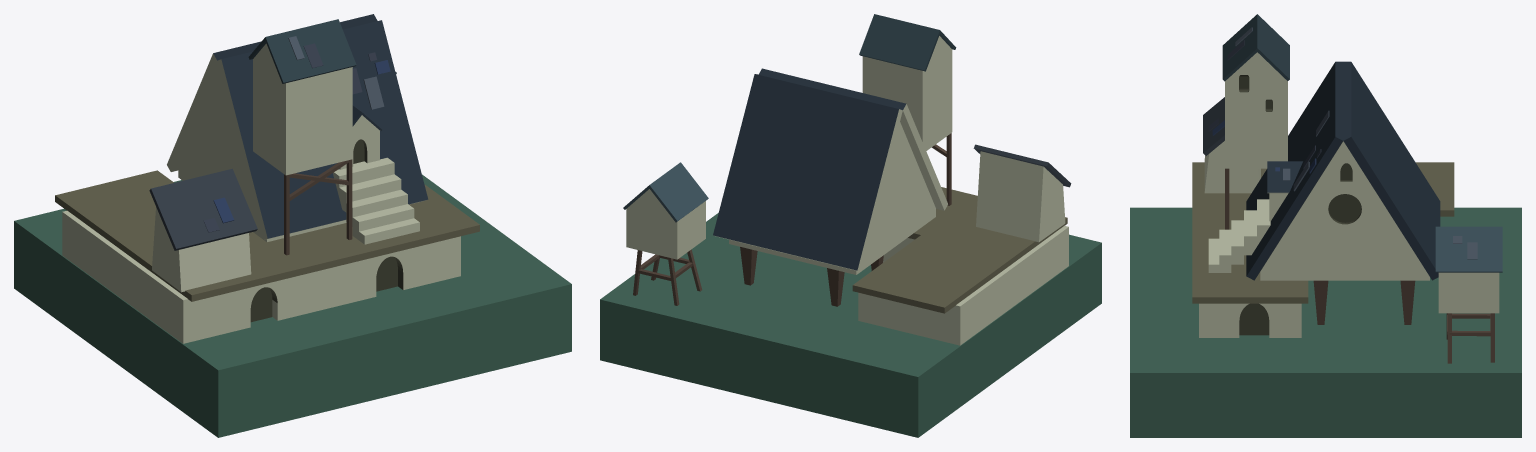
The model's file is 城镇导出blend.fbx.
3 views of the same model, side by side, from view 1: azimuth 30°, elevation 25°; view 2: azimuth 150°, elevation 25°; view 3: azimuth 270°, elevation 25° (orthographic). The views are drawn at different scales.
Visible parts, largest first — view 1: 底座, 立方体, 立方体.001, 立方体.007, 立方体.002, 立方体.005, 立方体.006, 立方体.015, 立方体.019; view 2: 底座, 立方体, 立方体.007, 立方体.002, 立方体.001, 立方体.005, 立方体.003, 立方体.022, 立方体.023; view 3: 底座, 立方体, 立方体.002, 立方体.007, 立方体.003, 立方体.001, 立方体.006, 立方体.005, 立方体.022, 立方体.024, 立方体.009.
Boxes of the visible parts, bbox=[...] form: 底座: bbox=[14, 174, 571, 437]; 立方体: bbox=[167, 14, 428, 241]; 立方体.001: bbox=[62, 210, 460, 343]; 立方体.007: bbox=[55, 170, 479, 301]; 立方体.002: bbox=[248, 19, 356, 175]; 立方体.005: bbox=[149, 168, 257, 292]; 立方体.006: bbox=[333, 157, 419, 244]; 立方体.015: bbox=[284, 159, 352, 255]; 立方体.019: bbox=[287, 160, 350, 201]; 底座: bbox=[600, 213, 1101, 437]; 立方体: bbox=[713, 68, 947, 274]; 立方体.007: bbox=[852, 187, 1067, 313]; 立方体.002: bbox=[859, 14, 956, 150]; 立方体.001: bbox=[858, 226, 1068, 345]; 立方体.005: bbox=[973, 144, 1071, 242]; 立方体.003: bbox=[623, 162, 708, 259]; 立方体.022: bbox=[740, 247, 757, 285]; 立方体.023: bbox=[827, 268, 844, 306]; 底座: bbox=[1130, 207, 1521, 437]; 立方体: bbox=[1246, 61, 1440, 280]; 立方体.002: bbox=[1222, 14, 1289, 168]; 立方体.007: bbox=[1192, 162, 1454, 303]; 立方体.003: bbox=[1435, 226, 1502, 313]; 立方体.001: bbox=[1199, 303, 1301, 337]; 立方体.006: bbox=[1208, 199, 1270, 272]; 立方体.005: bbox=[1203, 97, 1260, 193]; 立方体.022: bbox=[1400, 280, 1415, 324]; 立方体.024: bbox=[1313, 280, 1328, 324]; 立方体.009: bbox=[1447, 313, 1491, 363].
Size of the model in its own units: 489 by 424 by 484.
